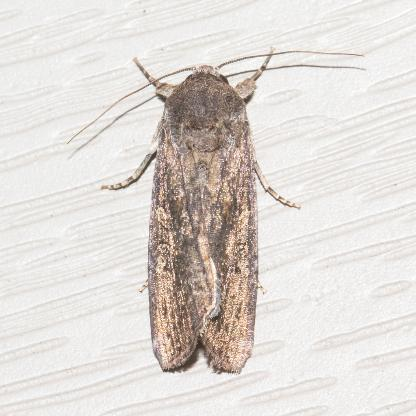Fall Armyworm Moth: (66, 42, 368, 380)
